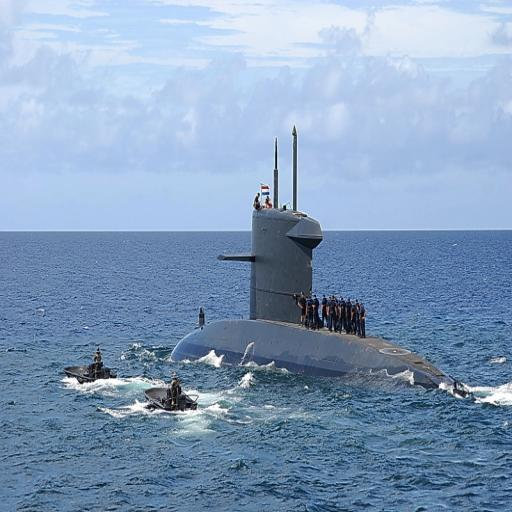submarine: (170, 117, 476, 403)
